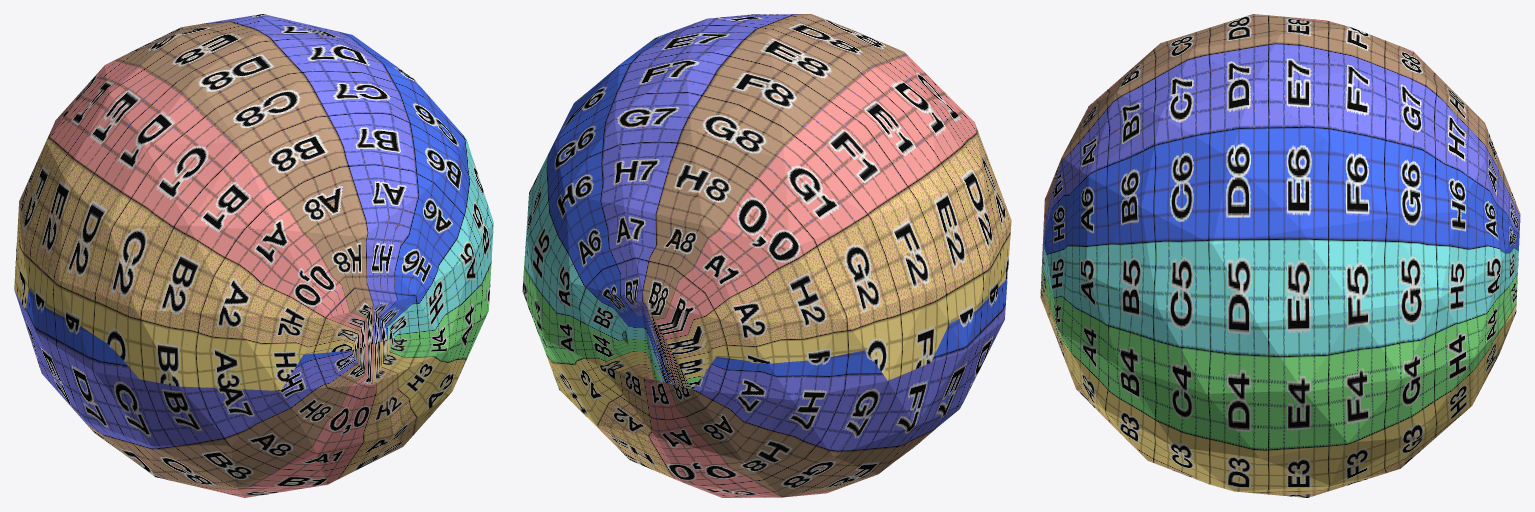
Rendered from ball.obj.
3 views of the same model, side by side, from view 1: azimuth 30°, elevation 25°; view 2: azimuth 150°, elevation 25°; view 3: azimuth 270°, elevation 25° (orthographic). The views are drawn at different scales.
Parts seen in each view (by area): view 1: ball; view 2: ball; view 3: ball.
Part boxes in pixels (box(x1,y1,x2,y2)): ball: box(14, 14, 493, 497); ball: box(522, 14, 1011, 497); ball: box(1040, 14, 1520, 497).
Bounding box in the file's own units: 1.97 × 2 × 1.96.
